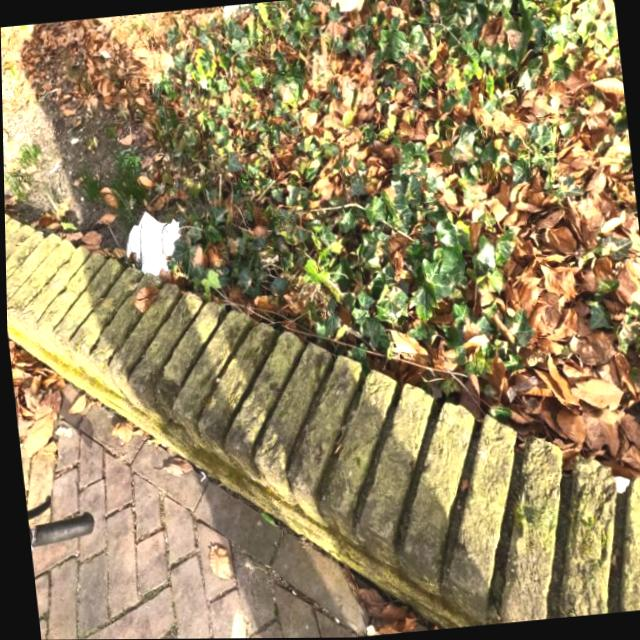Paper: (121, 206, 184, 279), (222, 3, 253, 22), (329, 0, 371, 14)
